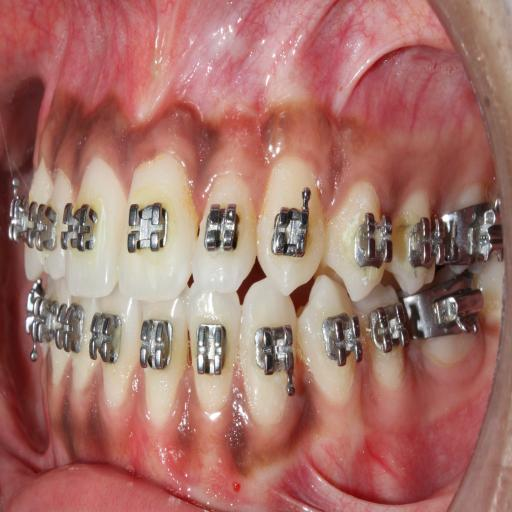correct_brace: (301, 278, 364, 400), (326, 186, 388, 299), (128, 193, 173, 258), (325, 306, 364, 374), (271, 202, 313, 265), (252, 321, 296, 380), (64, 196, 100, 262), (199, 198, 243, 250), (195, 322, 228, 379)
incorrect_brace: (186, 289, 242, 426), (190, 169, 254, 286), (353, 205, 394, 276)
